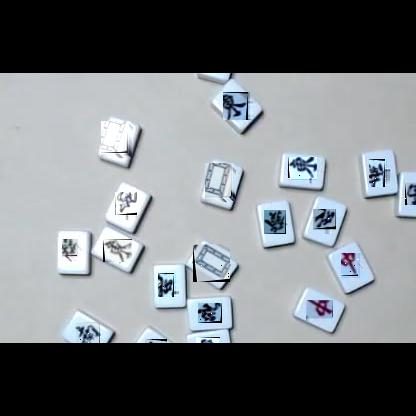1z: (224, 92, 253, 120), (288, 158, 317, 183), (103, 239, 132, 262)
2z: (115, 193, 137, 220), (370, 159, 390, 187), (76, 322, 100, 343)
3z: (405, 182, 416, 205), (145, 339, 167, 343)
4z: (313, 210, 336, 234), (159, 273, 179, 297), (198, 303, 222, 323), (196, 337, 220, 343)
5z: (193, 244, 230, 282), (206, 164, 236, 202), (102, 122, 133, 158)
6z: (264, 210, 286, 234), (63, 240, 82, 261)
7z: (342, 254, 363, 281), (306, 301, 333, 322)
